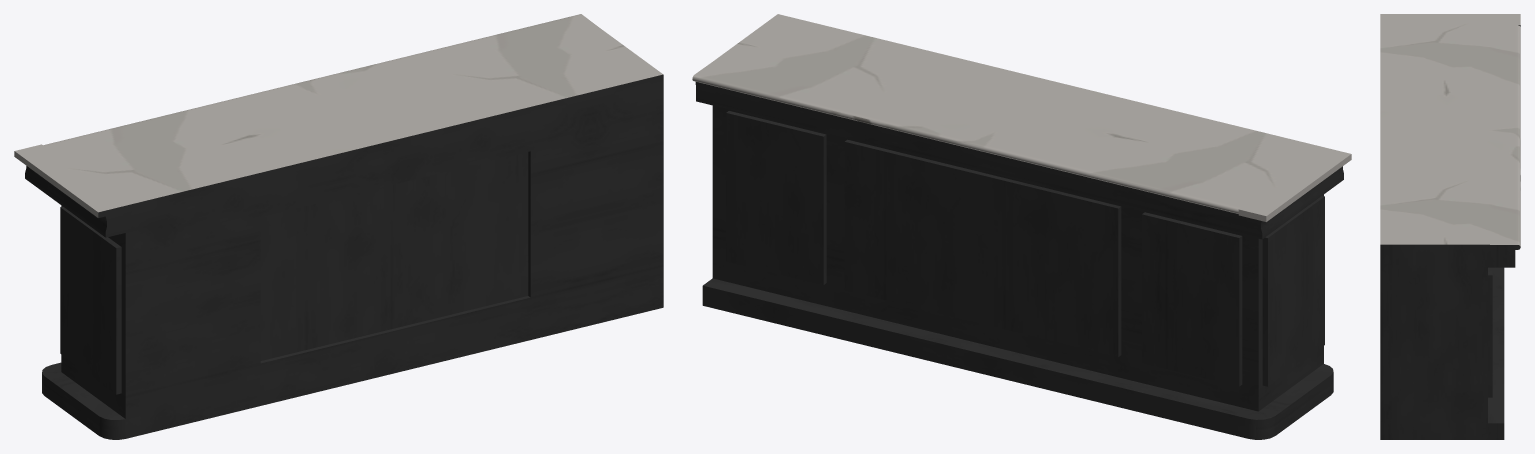
Rendered from Countertopendright.fbx.
The picture shows the model from 3 angles, left to right: view 1: azimuth 30°, elevation 25°; view 2: azimuth 150°, elevation 25°; view 3: azimuth 270°, elevation 25°; orthographic projection. The views are drawn at different scales.
Visible parts, largest first — view 1: endcounterright1; view 2: endcounterright1; view 3: endcounterright1.
Part boxes in pixels (bbox=[...]): endcounterright1: bbox=[14, 14, 663, 439]; endcounterright1: bbox=[692, 14, 1351, 439]; endcounterright1: bbox=[1380, 14, 1520, 439].
Bounding box in the file's own units: 10.06 × 3.96 × 2.58.
1 material, 1 textured.
